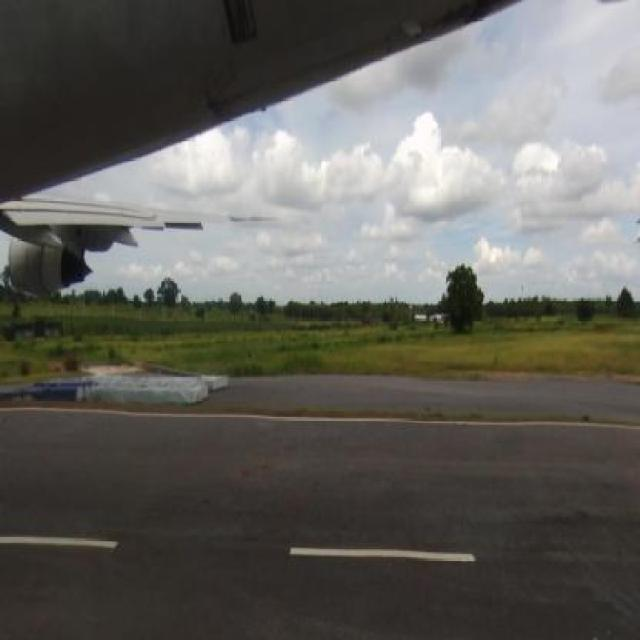Scartch: (195, 78, 252, 117)
